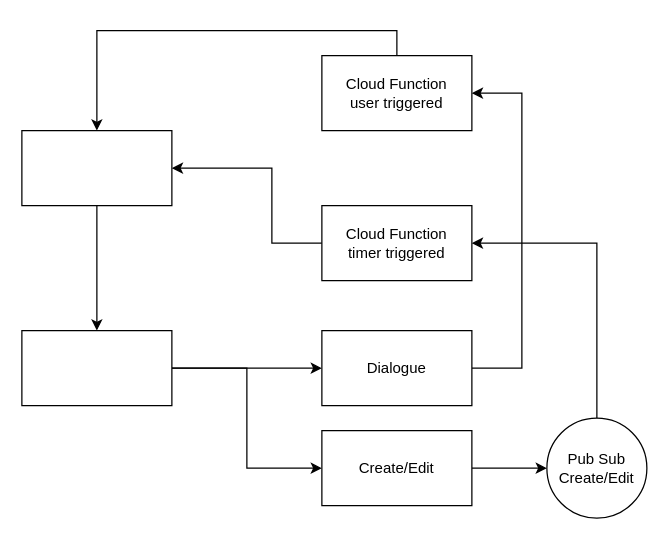
The diagram is 669 pixels wide and 540 high, and some of its shapes have lost their labels. The shapes that lost their labels are listed below. From the top down, each one's centre as x and y in pixels, then its label:
At pixel 96 167: "Firebase RTB Chats".
At pixel 96 367: "App UI".
